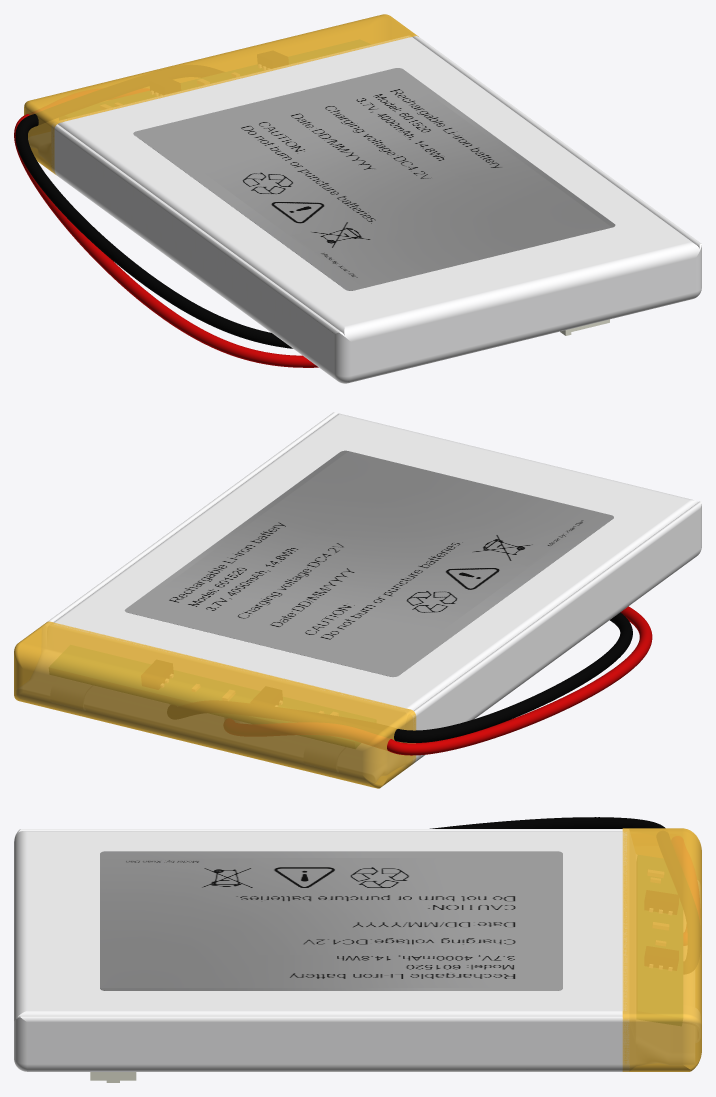
Rendered from battery.glb.
The picture shows the model from 3 angles, top to bottom: view 1: azimuth 30°, elevation 25°; view 2: azimuth 150°, elevation 25°; view 3: azimuth 270°, elevation 25°; orthographic projection. The views are drawn at different scales.
Visible parts, largest first — view 1: 1000mah Battery Body_Part 1:1, Battery Sticker:1, 1000mah Battery Body_Part 2:1, Battry Wire Red:1_df04b6, Battry Wire Red:1_fa6396; view 2: Battery Sticker:1, 1000mah Battery Body_Part 1:1, 1000mah Battery Body_Part 2:1, Battry Wire Red:1_fa6396, Battry Wire Red:1_df04b6; view 3: 1000mah Battery Body_Part 1:1, Battery Sticker:1, 1000mah Battery Body_Part 2:1, Battry Wire Red:1_df04b6, JST 2 Pin 1.5mm:1.
Boxes of the visible parts, x1,y1,x2,y2 form: 1000mah Battery Body_Part 1:1: [51, 36, 701, 383]; Battery Sticker:1: [133, 68, 615, 290]; 1000mah Battery Body_Part 2:1: [24, 14, 418, 174]; Battry Wire Red:1_df04b6: [15, 114, 292, 348]; Battry Wire Red:1_fa6396: [14, 114, 318, 367]; Battery Sticker:1: [124, 450, 613, 676]; 1000mah Battery Body_Part 1:1: [48, 412, 701, 764]; 1000mah Battery Body_Part 2:1: [14, 621, 416, 788]; Battry Wire Red:1_fa6396: [387, 606, 652, 755]; Battry Wire Red:1_df04b6: [394, 612, 632, 742]; 1000mah Battery Body_Part 1:1: [14, 829, 629, 1071]; Battery Sticker:1: [100, 851, 562, 990]; 1000mah Battery Body_Part 2:1: [622, 828, 701, 1071]; Battry Wire Red:1_df04b6: [430, 817, 665, 828]; JST 2 Pin 1.5mm:1: [90, 1072, 136, 1082].
Size of the model in its own units: 0.0392 by 0.00831 by 0.052.
Materials: 8 (1 with a texture image).
